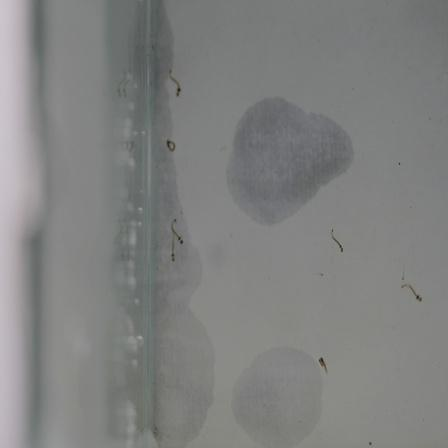Jentik-Nyamuk: (164, 212, 190, 265), (163, 64, 185, 101), (398, 279, 427, 306), (327, 226, 349, 256), (163, 136, 181, 157)
